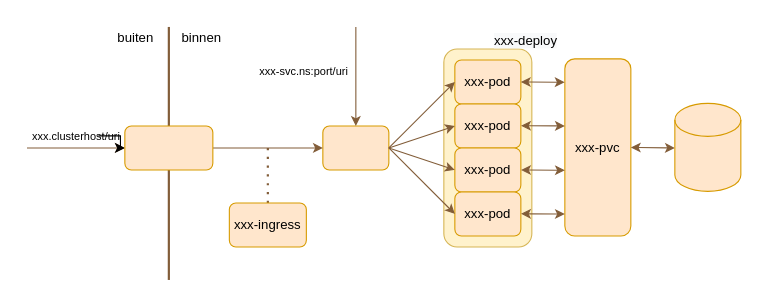
The diagram is 760 pixels wide and 301 high, and some of its shapes have lost their labels. Here are the shapes that lost their labels. From the top down, the centre of each, then its label:
At point (168, 147): "IBM Cloud ALB".
At point (355, 147): "xxx-svc".
At point (707, 146): "PV".
